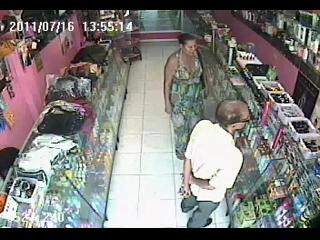Normal: (181, 99, 252, 227), (163, 33, 216, 161)
